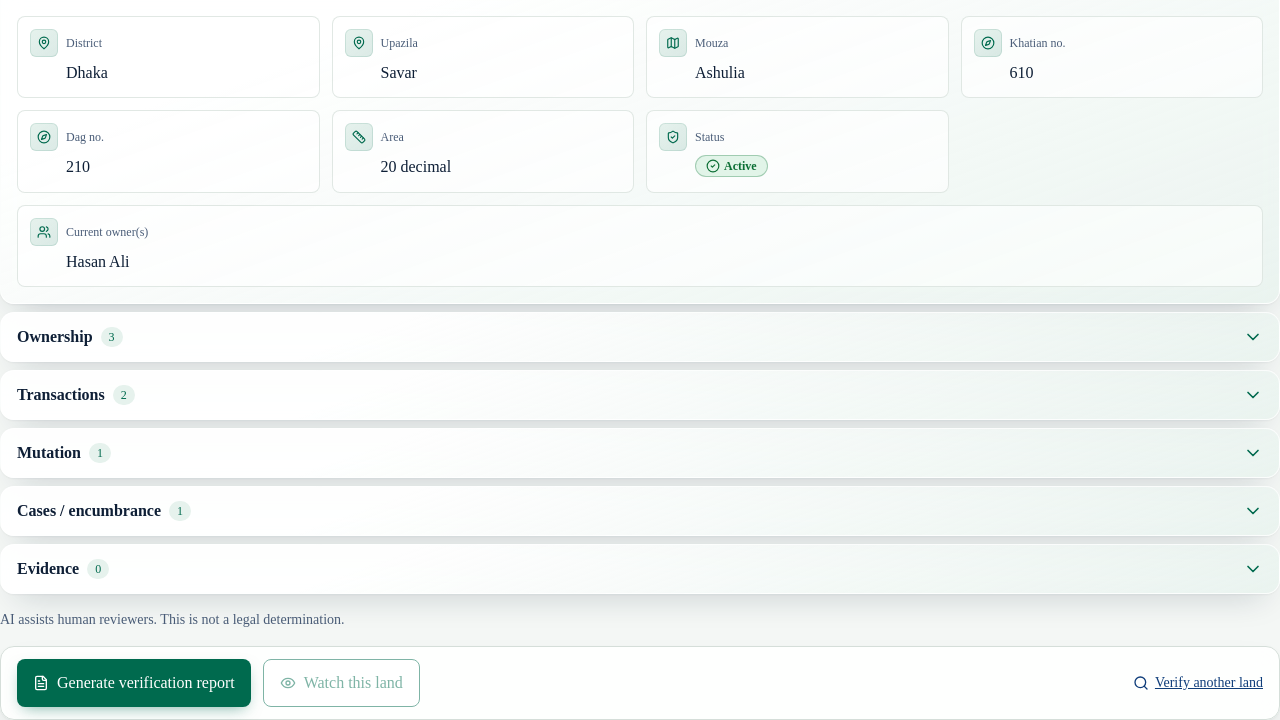
Test: ResultView › renders the mutation history table with status, dates and khatian change
(page scrolled)
Click the heading with test id "section-toggle": (49, 452) [17,443,1263,463]
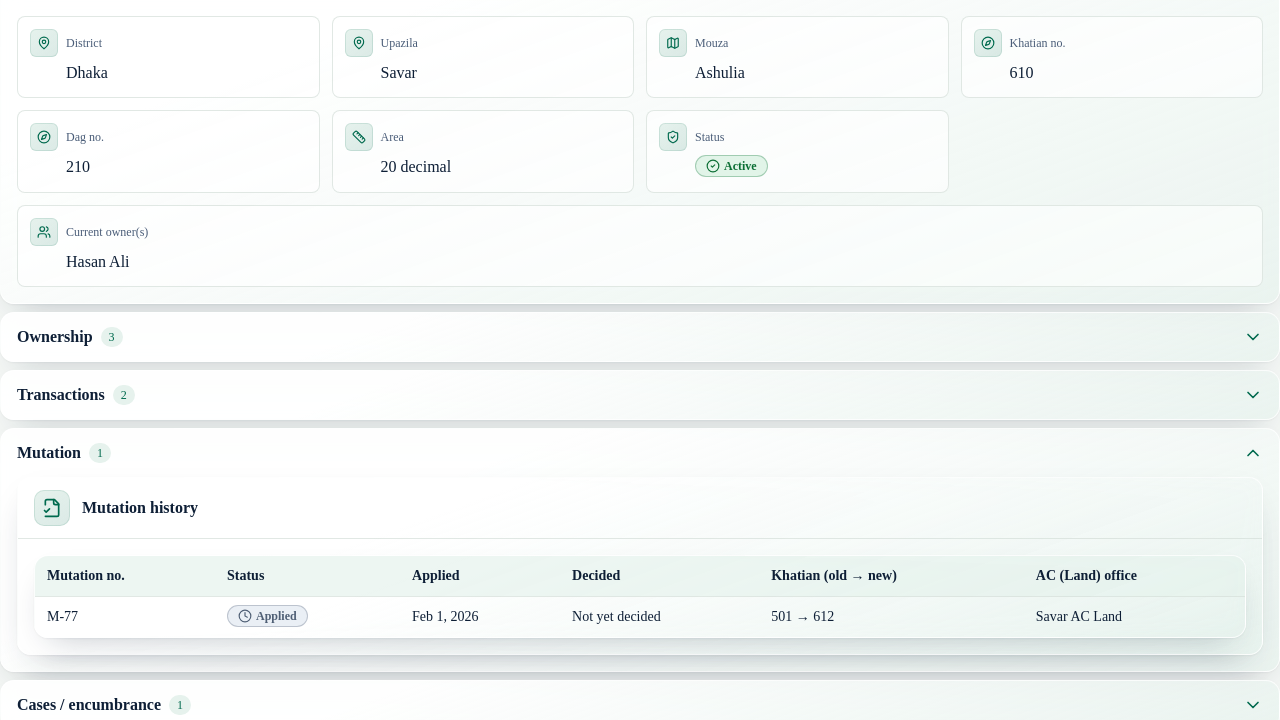
Check: the row that starts with "M-77" is shown, box [47,609,78,624]
Check: the row that starts with "M-77" shows "Applied", box [256,609,297,623]
Check: the row that starts with "M-77" shows "501 → 612", box [771,609,834,624]
